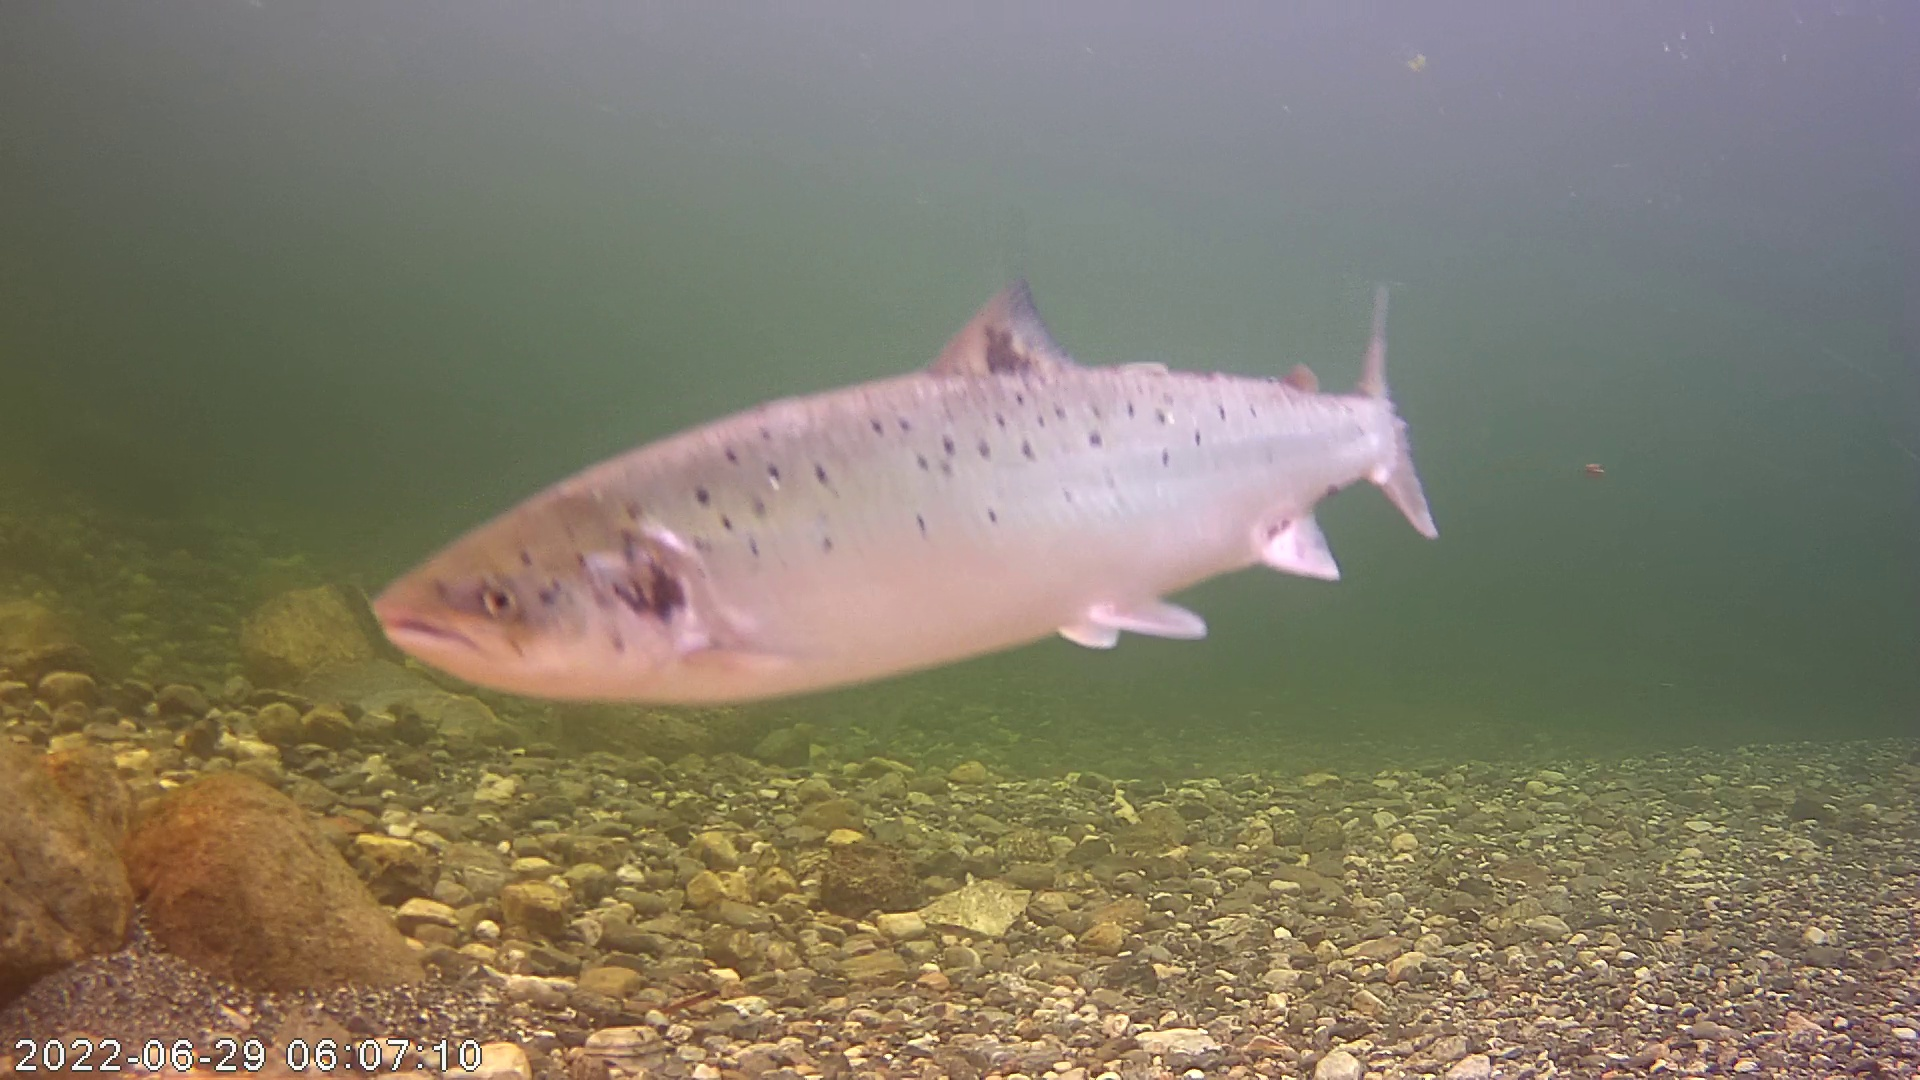salmon: (386, 212, 1436, 698)
